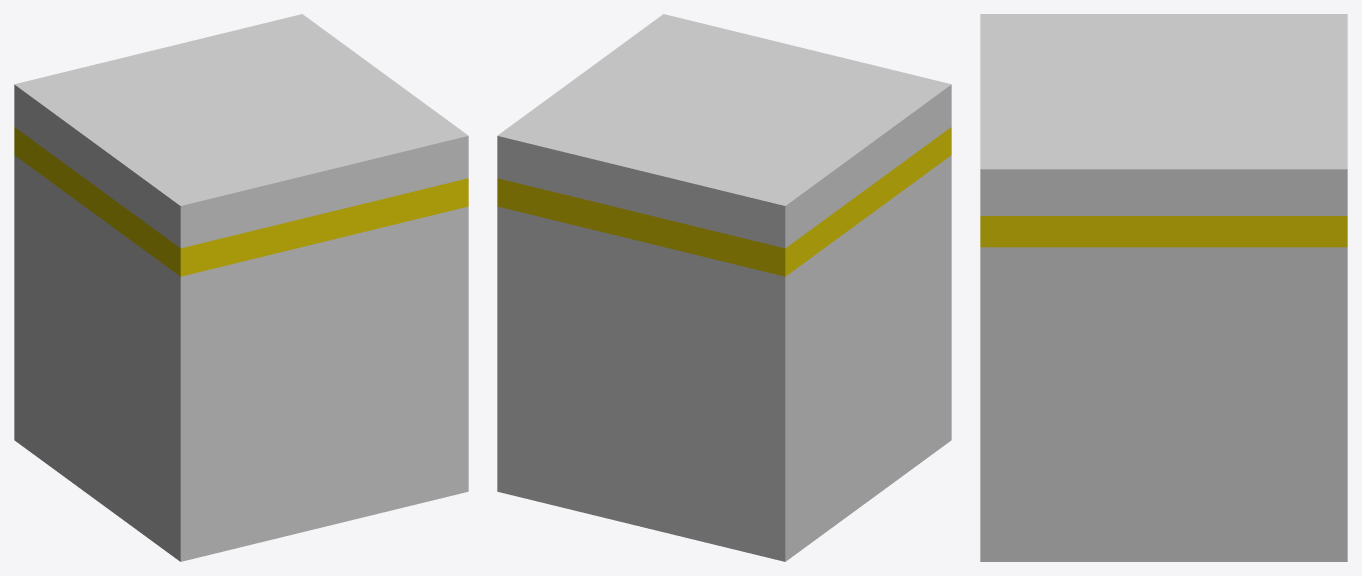
Rendered from House3.fbx.
3 views of the same model, side by side, from view 1: azimuth 30°, elevation 25°; view 2: azimuth 150°, elevation 25°; view 3: azimuth 270°, elevation 25° (orthographic). The views are drawn at different scales.
Parts seen in each view (by area): view 1: House4; view 2: House4; view 3: House4.
Boxes of the visible parts, x1,y1,x2,y2 form: House4: (14,14,468,561); House4: (497,14,951,561); House4: (980,14,1347,561).
Size of the model in its own units: 378 by 446 by 378.
